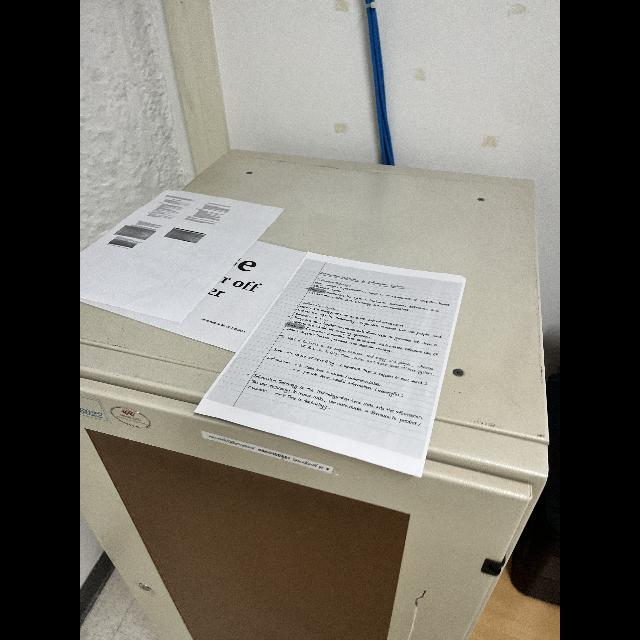reuseable_paper: (197, 254, 468, 480), (80, 182, 300, 352)
